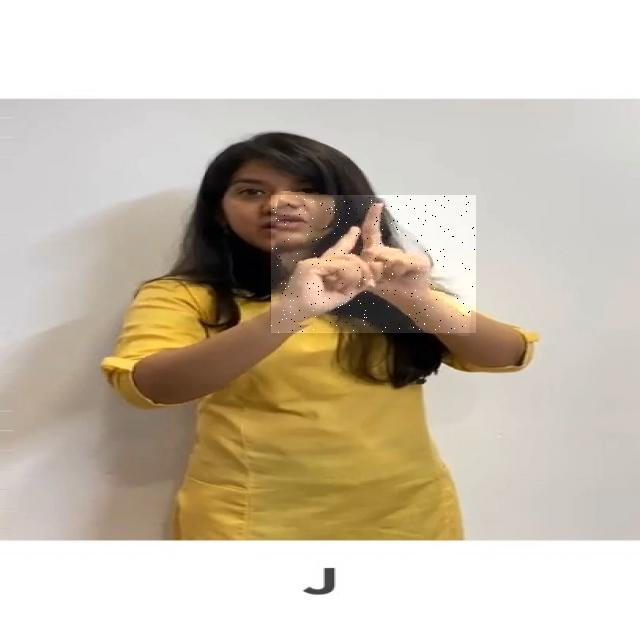J: (271, 195, 476, 333)
